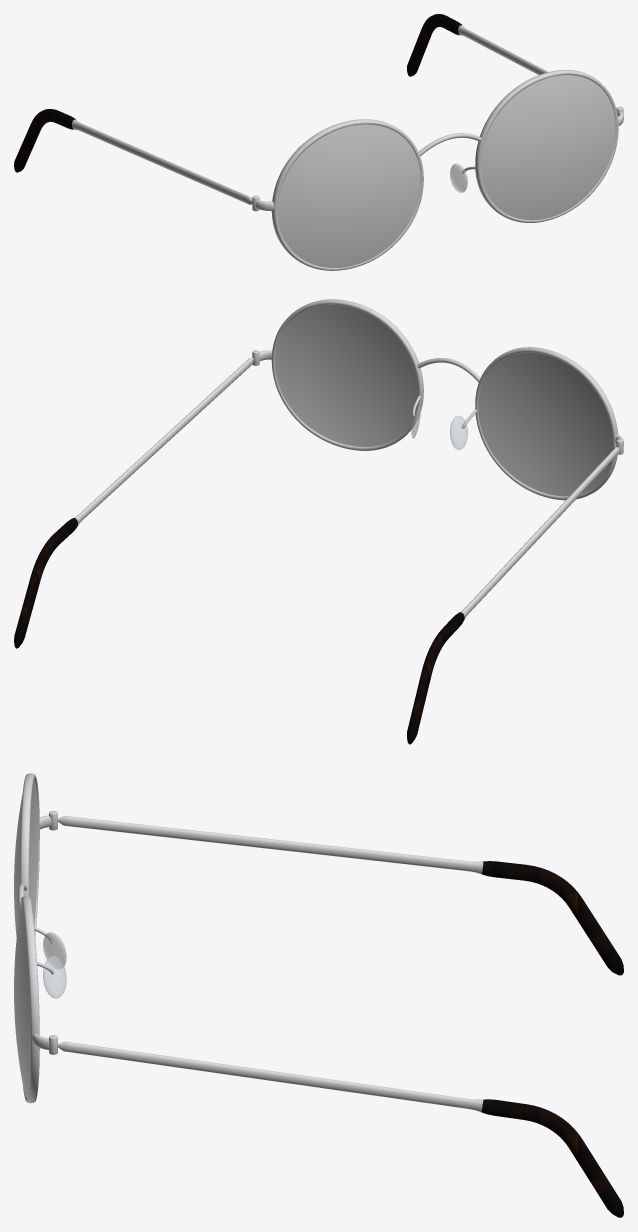
The model's file is ezra-m.glb.
3 renders of one model, top to bottom at view 1: azimuth 30°, elevation 25°; view 2: azimuth 150°, elevation 25°; view 3: azimuth 270°, elevation 25°, orthographic. The views are drawn at different scales.
Visible parts, largest first — view 1: Lens_R, Lens_L, Front, Temple_R, Temple_L, NosePads; view 2: Lens_L, Lens_R, Front, Temple_L, Temple_R, NosePads; view 3: Temple_L, Temple_R, Front, Lens_L, Lens_R, NosePads.
Part boxes in pixels (bbox=[...]): Lens_R: bbox=[277, 124, 420, 267]; Lens_L: bbox=[481, 75, 615, 220]; Front: bbox=[252, 70, 623, 270]; Temple_R: bbox=[14, 109, 252, 204]; Temple_L: bbox=[407, 14, 616, 107]; NosePads: bbox=[450, 163, 467, 192]; Lens_L: bbox=[275, 305, 417, 446]; Lens_R: bbox=[478, 352, 612, 496]; Front: bbox=[252, 299, 623, 500]; Temple_L: bbox=[14, 358, 253, 648]; Temple_R: bbox=[407, 447, 619, 744]; NosePads: bbox=[411, 406, 467, 449]; Temple_L: bbox=[57, 1041, 623, 1217]; Temple_R: bbox=[58, 816, 623, 975]; Front: bbox=[18, 773, 57, 1103]; Lens_L: bbox=[14, 901, 30, 1098]; Lens_R: bbox=[14, 779, 38, 936]; NosePads: bbox=[43, 932, 66, 998].
Size of the model in its own units: 0.135 by 0.0638 by 0.1408.
6 materials, 1 textured.
